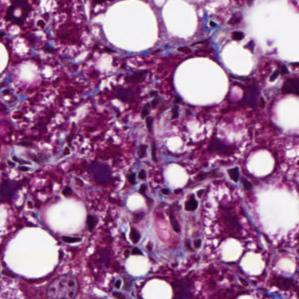inflammation: (105, 62, 162, 119), (75, 147, 126, 194), (175, 188, 223, 223)
